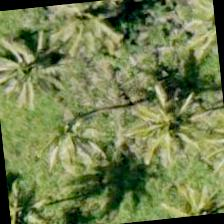Kelapa_Sawit: (117, 73, 216, 172), (20, 82, 119, 181), (0, 17, 78, 116), (39, 0, 136, 68), (6, 167, 65, 223)
